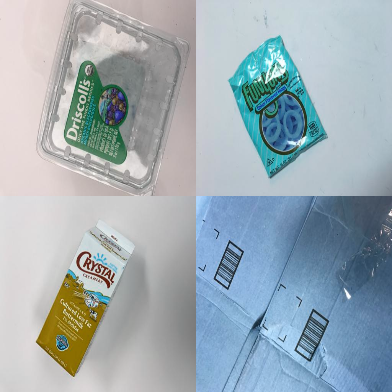cardboard: (196, 196, 392, 390), (33, 219, 136, 378)
plastic: (35, 1, 190, 196), (228, 35, 328, 179)
